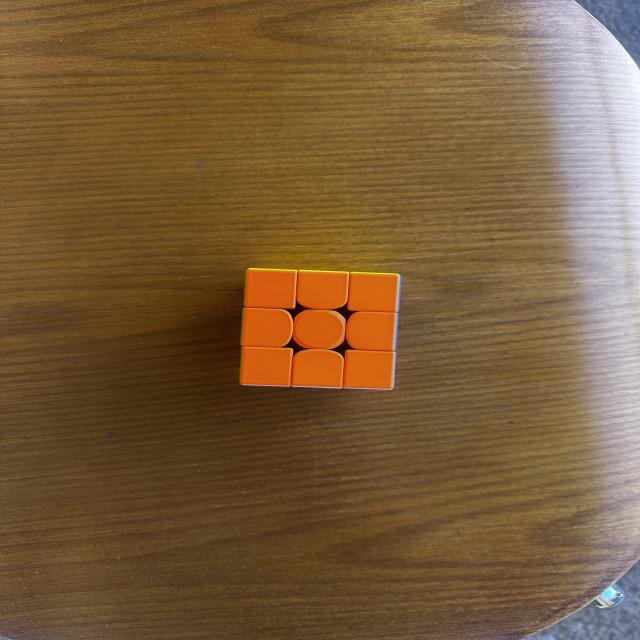sticker: (340, 348, 398, 392), (242, 267, 299, 311), (239, 346, 295, 388), (295, 269, 350, 311), (346, 272, 401, 314), (290, 348, 346, 389), (345, 311, 398, 353), (240, 308, 294, 349), (292, 309, 346, 350)
